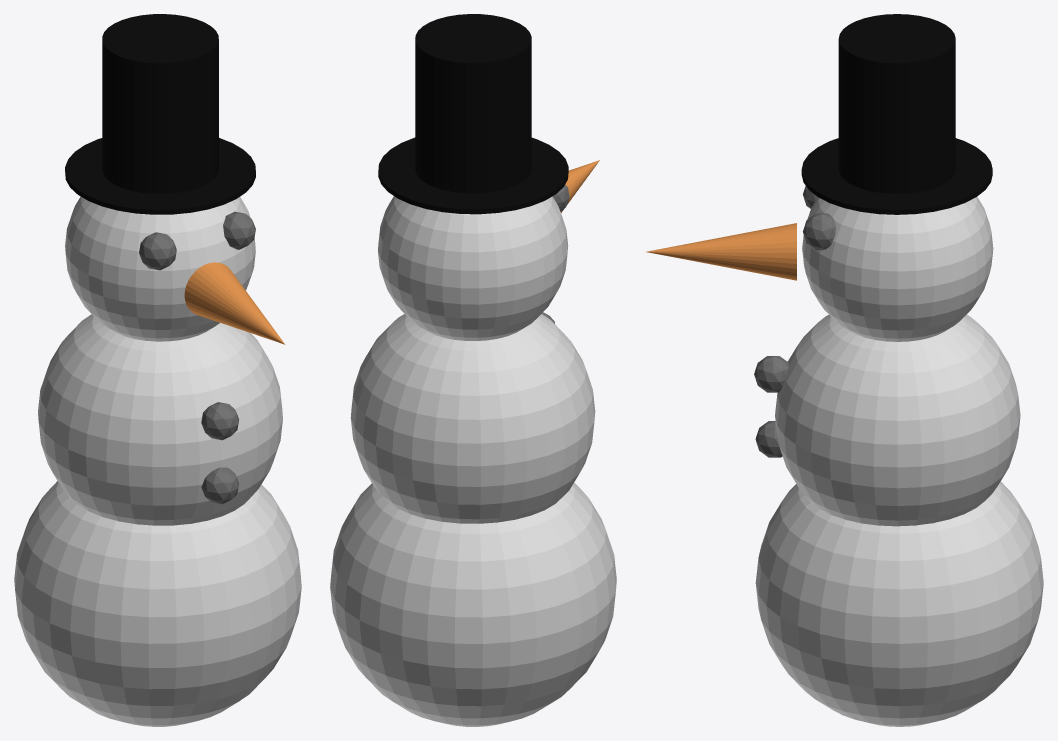
The model's file is snowman.fbx.
The picture shows the model from 3 angles, left to right: view 1: azimuth 30°, elevation 25°; view 2: azimuth 150°, elevation 25°; view 3: azimuth 270°, elevation 25°; orthographic projection.
Visible parts, largest first — view 1: Sphere, Sphere.001, Cylinder.002, Sphere.002, Cylinder.001, Cone, Icosphere, Icosphere.002, Icosphere.003, Icosphere.001; view 2: Sphere, Sphere.001, Sphere.002, Cylinder.002, Cylinder.001, Cone; view 3: Sphere, Sphere.001, Sphere.002, Cylinder.002, Cylinder.001, Cone, Icosphere.002, Icosphere.001, Icosphere.003.
Boxes of the visible parts, box(x1,y1,x2,y2) form: Sphere: box(14, 481, 301, 726); Sphere.001: box(38, 314, 282, 525); Cylinder.002: box(102, 14, 218, 193); Sphere.002: box(65, 196, 255, 341); Cylinder.001: box(65, 138, 255, 214); Cone: box(184, 262, 285, 344); Icosphere: box(139, 232, 176, 270); Icosphere.002: box(201, 402, 239, 440); Icosphere.003: box(201, 467, 238, 504); Icosphere.001: box(223, 211, 255, 249); Sphere: box(330, 482, 616, 726); Sphere.001: box(350, 314, 595, 523); Sphere.002: box(378, 196, 568, 340); Cylinder.002: box(415, 14, 531, 193); Cylinder.001: box(378, 137, 568, 214); Cone: box(561, 160, 599, 212); Sphere: box(755, 481, 1043, 726); Sphere.001: box(775, 314, 1020, 526); Sphere.002: box(802, 197, 993, 341); Cylinder.002: box(838, 14, 955, 193); Cylinder.001: box(801, 138, 992, 214); Cone: box(646, 223, 796, 280); Icosphere.002: box(754, 356, 788, 392); Icosphere.001: box(803, 213, 835, 250); Icosphere.003: box(755, 421, 782, 457).
Bounding box in the file's own units: 301 × 780 × 417.
